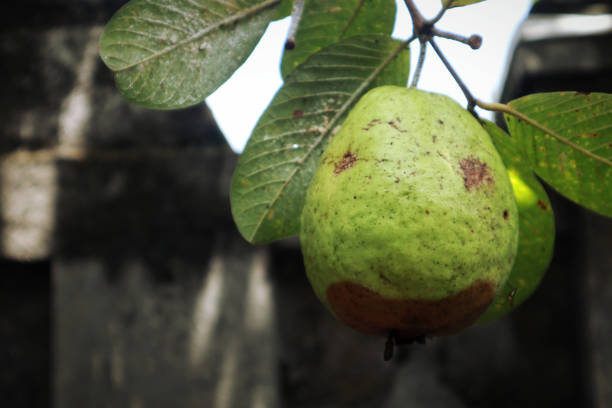guava: (25, 56, 543, 390)
